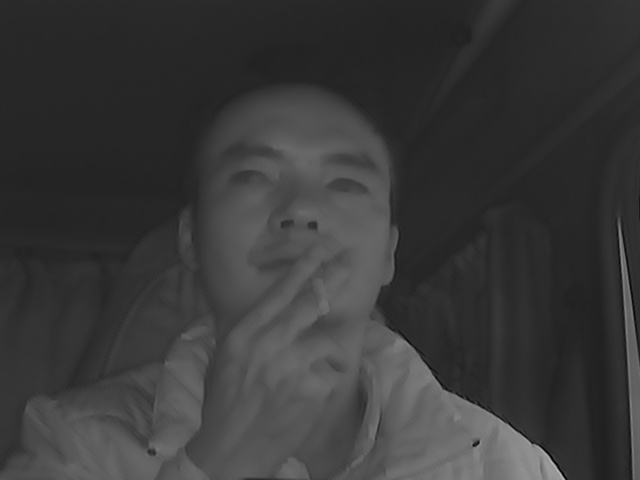hand: (233, 244, 366, 410)
